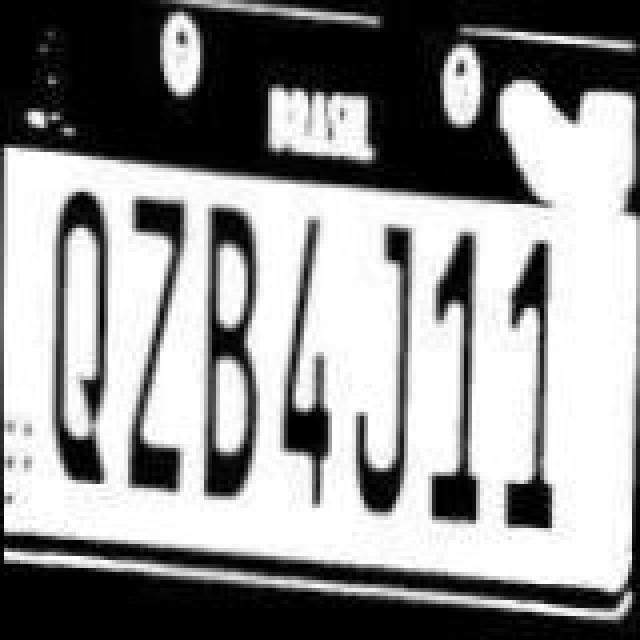1: (482, 250, 558, 534), (412, 236, 484, 532)
4: (272, 228, 340, 504)
B: (192, 206, 268, 506)
J: (346, 222, 418, 506)
Q: (46, 184, 118, 488)
Z: (126, 198, 190, 494)
